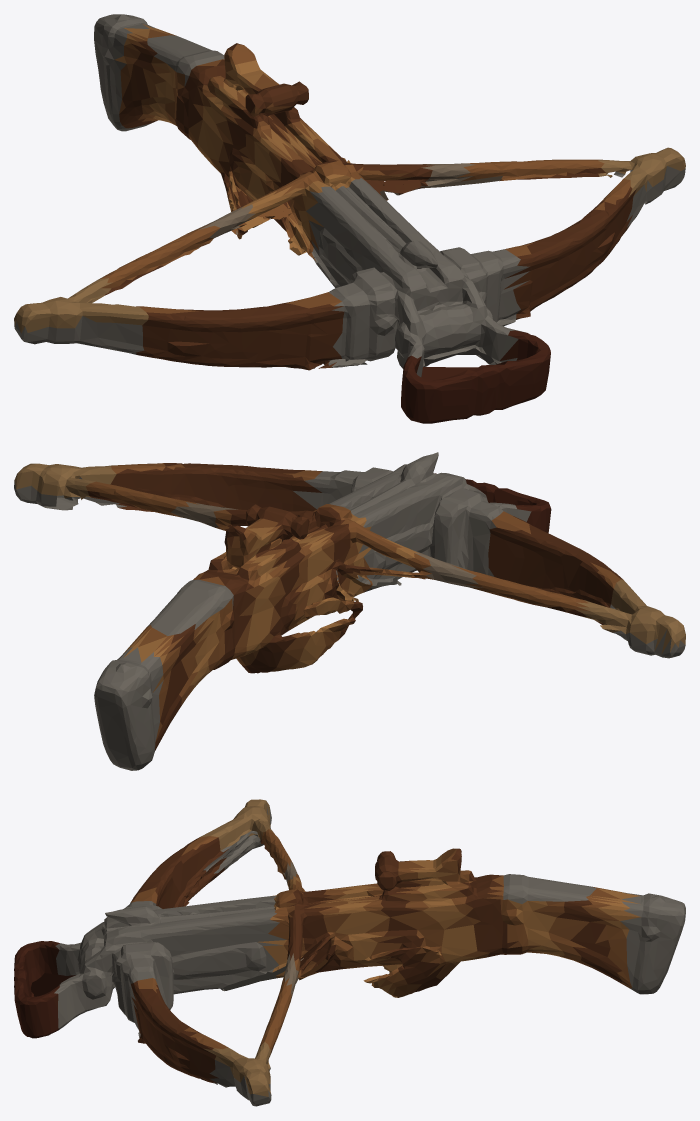
File: besta.glb
The picture shows the model from 3 angles, top to bottom: view 1: azimuth 30°, elevation 25°; view 2: azimuth 150°, elevation 25°; view 3: azimuth 270°, elevation 25°; orthographic projection. The views are drawn at different scales.
Parts seen in each view (by area): view 1: tmpv4pdbkyq.ply; view 2: tmpv4pdbkyq.ply; view 3: tmpv4pdbkyq.ply.
Boxes of the visible parts, <box> form: tmpv4pdbkyq.ply: <box>14,14,685,423</box>; tmpv4pdbkyq.ply: <box>14,452,685,770</box>; tmpv4pdbkyq.ply: <box>14,799,685,1106</box>.
Bounding box in the file's own units: 1.96 × 0.5355 × 1.96.
